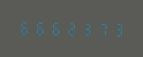seven: (92, 20, 106, 37)
six: (17, 19, 31, 36), (32, 19, 46, 36), (47, 19, 61, 36)
three: (77, 20, 91, 37), (107, 20, 121, 37)
two: (62, 19, 76, 37)
